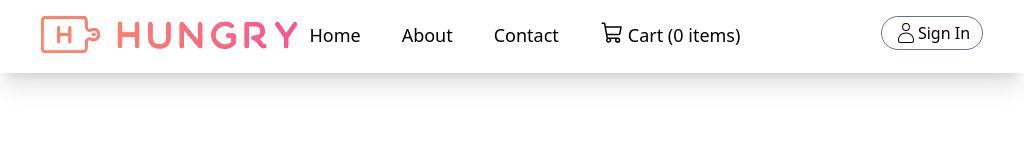
Test case: Should change Sign In button to Sign Out
Click the button "Sign In" at (932, 33), box [881,16,983,50]
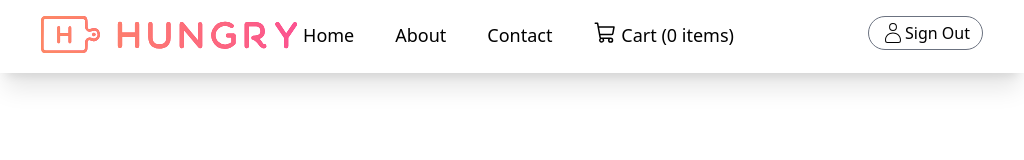
Expected: the button "Sign Out" is shown, [868,16,983,50]
